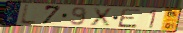1: (148, 9, 158, 29)
7: (40, 4, 63, 25)
9: (70, 6, 88, 27)
E: (116, 8, 142, 29)
L: (19, 4, 37, 26)
X: (89, 7, 113, 27)
